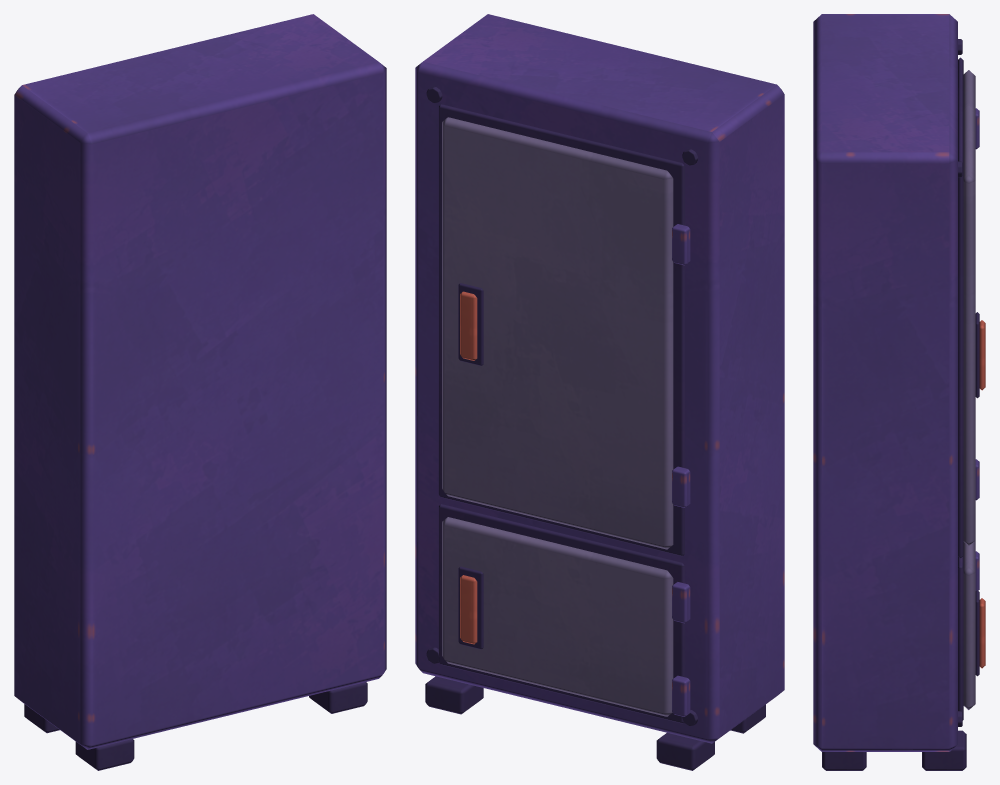
The model's file is bg_codex_locker_a02.glb.
3 views of the same model, side by side, from view 1: azimuth 30°, elevation 25°; view 2: azimuth 150°, elevation 25°; view 3: azimuth 270°, elevation 25° (orthographic). The views are drawn at different scales.
Visible parts, largest first — view 1: case; view 2: case, doors; view 3: case, doors.
Boxes of the visible parts, x1,y1,x2,y2 form: case: [14, 14, 386, 770]; case: [415, 14, 784, 770]; doors: [442, 117, 690, 716]; case: [813, 14, 966, 770]; doors: [963, 70, 985, 709].
Size of the model in its own units: 1 by 2 by 0.5.
Materials: 1 (1 with a texture image).
